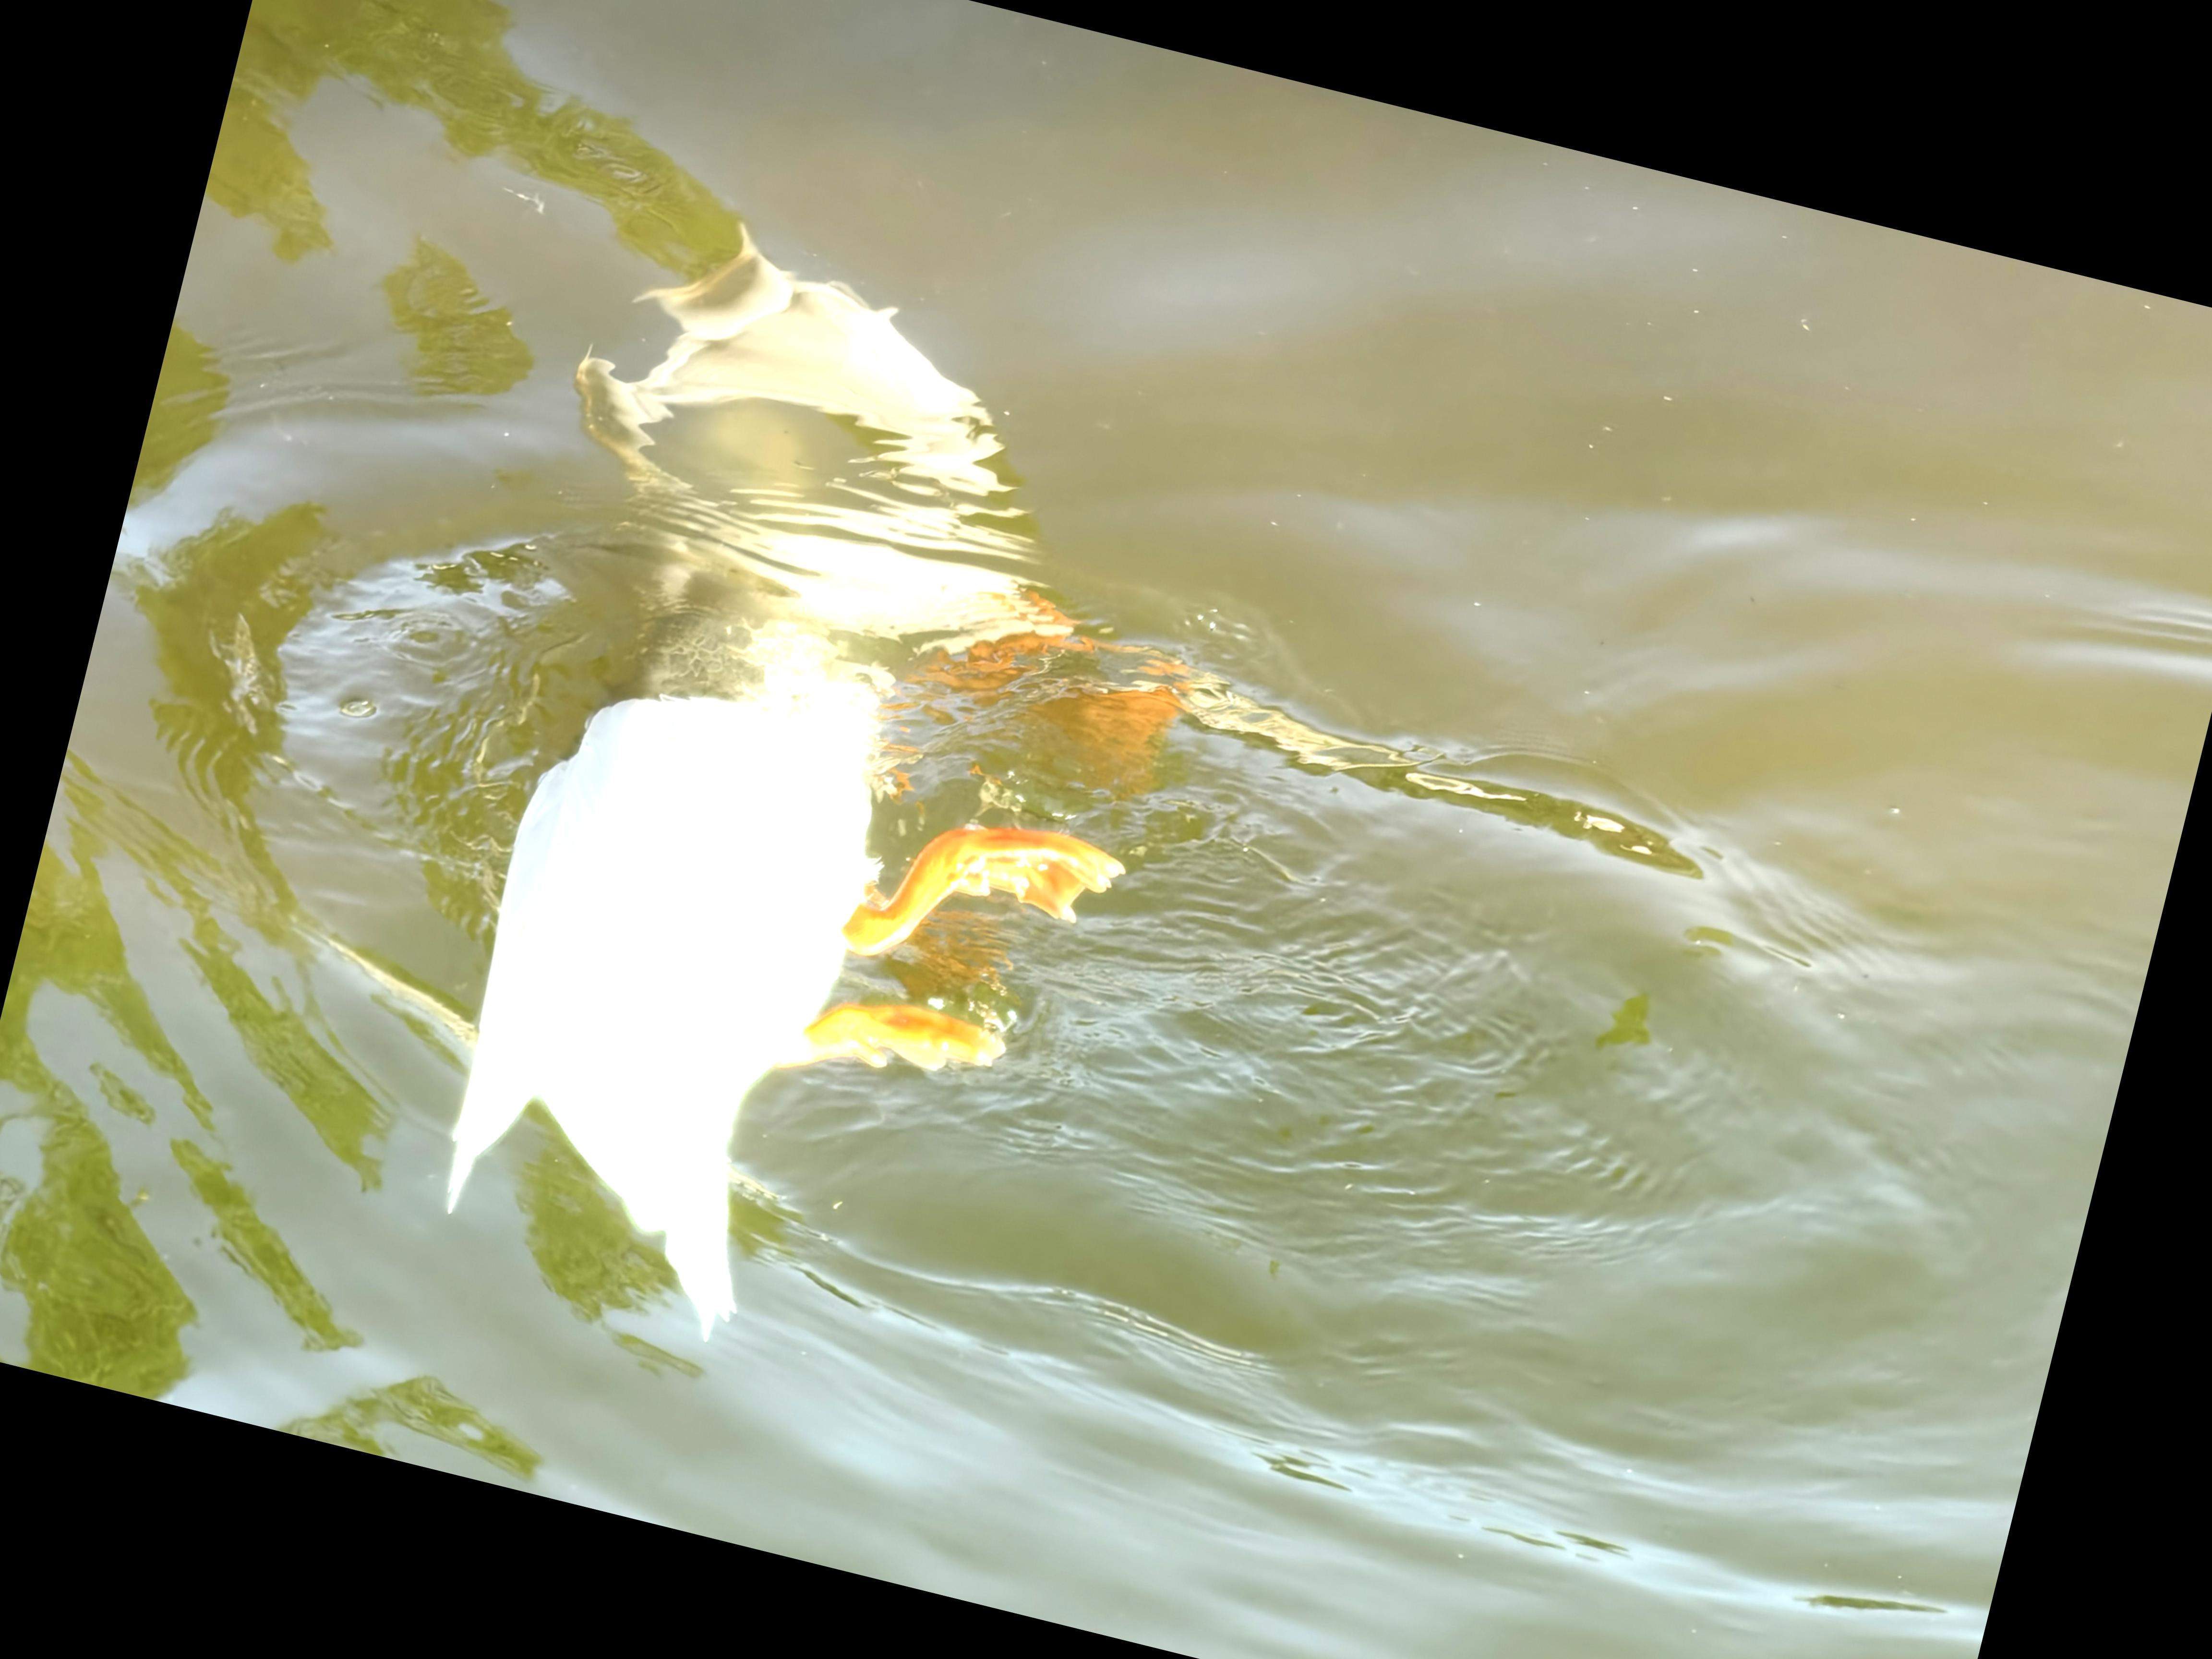duck: (378, 631, 1127, 1422)
